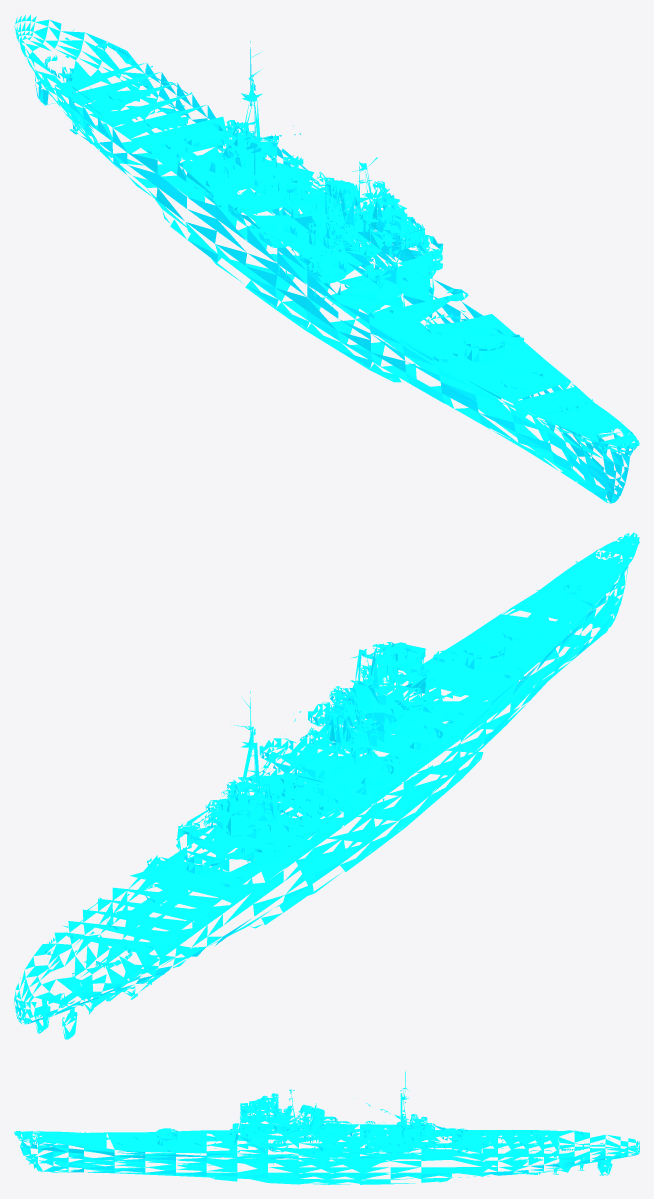
File: Yodo.glb
3 renders of one model, top to bottom at view 1: azimuth 30°, elevation 25°; view 2: azimuth 150°, elevation 25°; view 3: azimuth 270°, elevation 25°, orthographic. The views are drawn at different scales.
Bounding box in the file's own units: 1.89 × 2.92 × 15.99.
